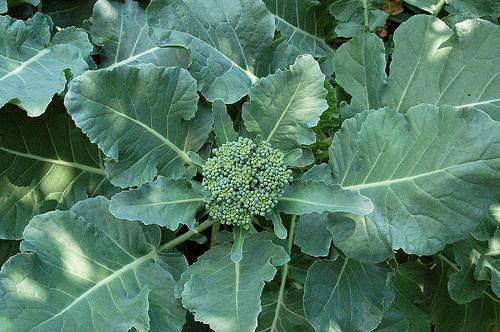broccoli: (202, 137, 294, 226)
